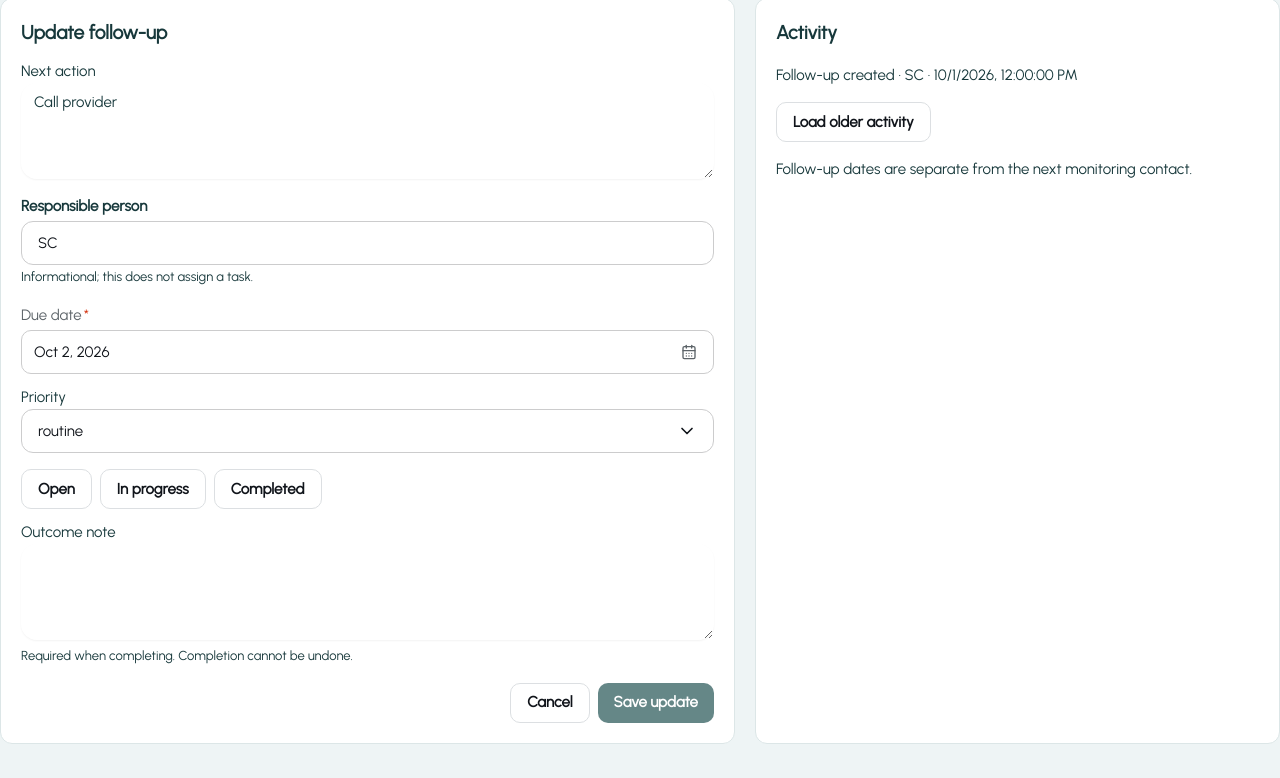
conflicts retain plan drafts, require explicit reapply and save against the latest token
Later steps or results of the test are not shown.
Replace the text in the text box labelled "Next action" with "My action": (368, 130) [21,82,714,178]
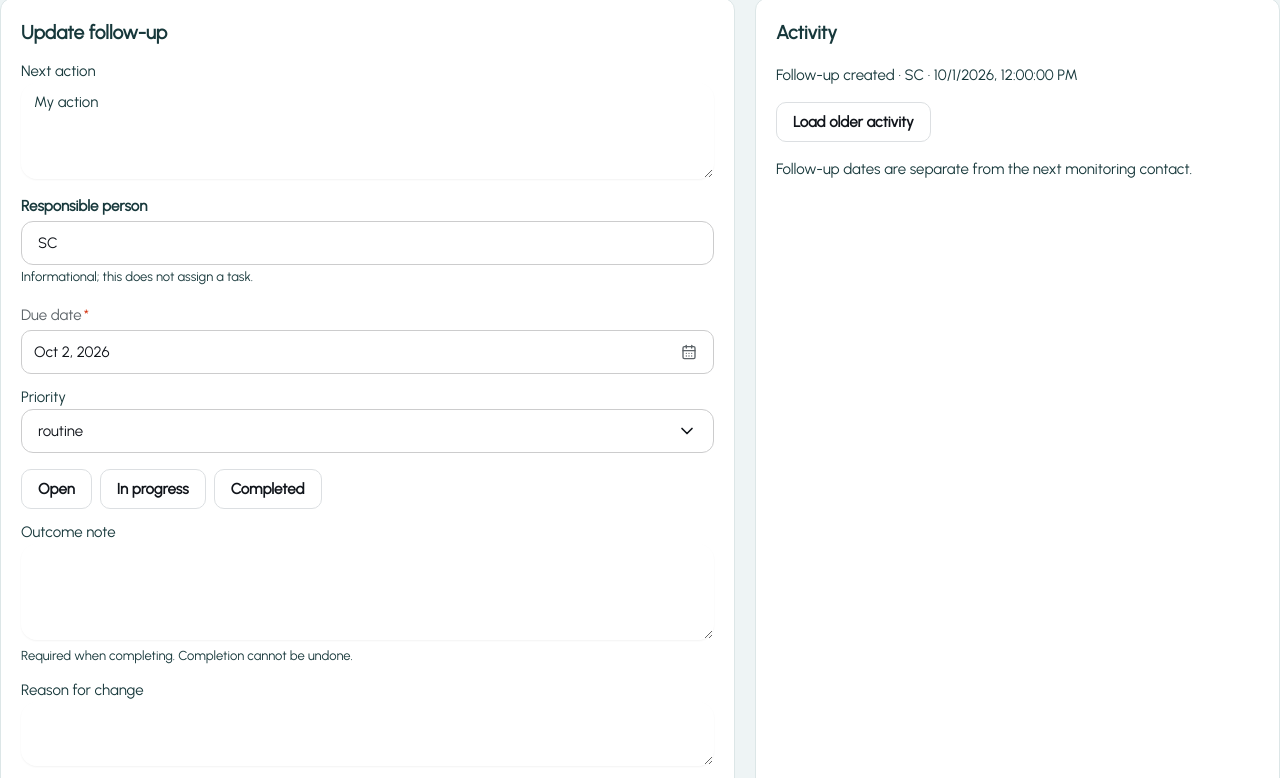
In the text box labelled "Reason for change": (368, 734) [21,702,714,766], type "Provider delay"
(page scrolled)
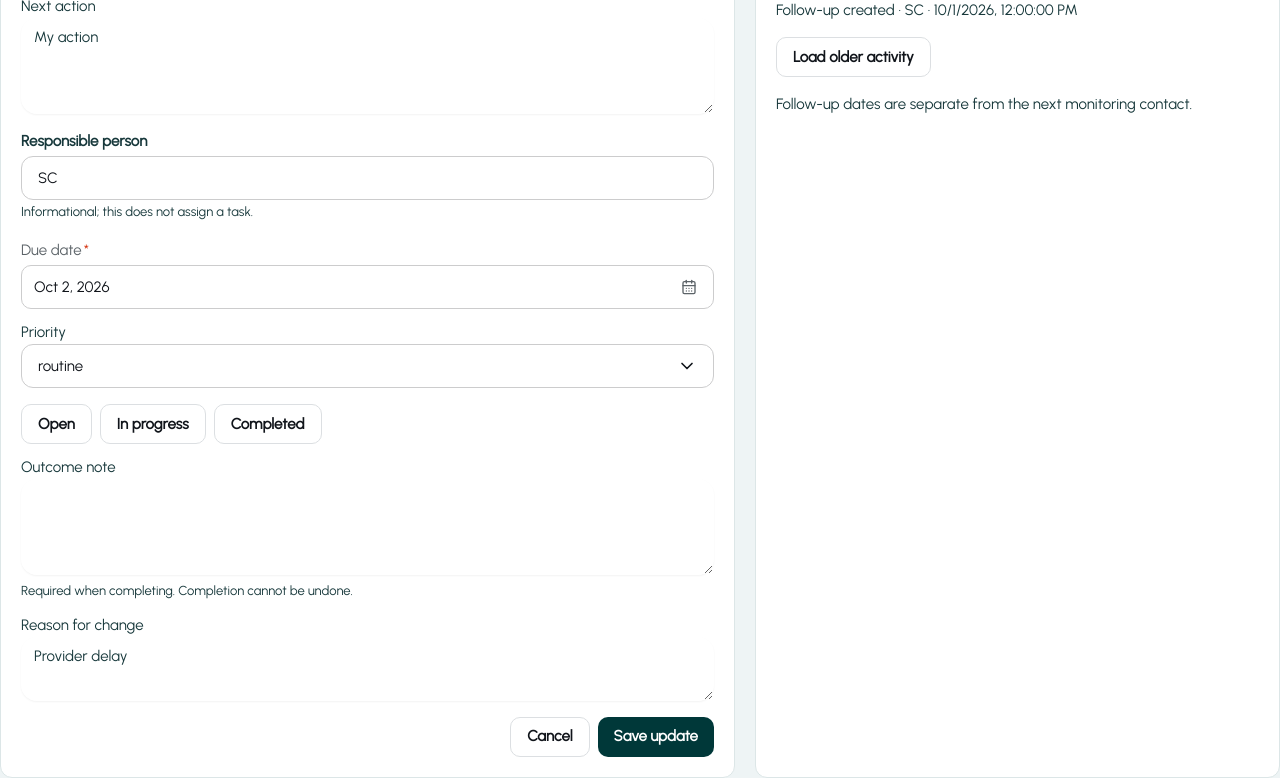
Click the button "Save update": click(656, 736) [598,716,714,756]
(page scrolled)
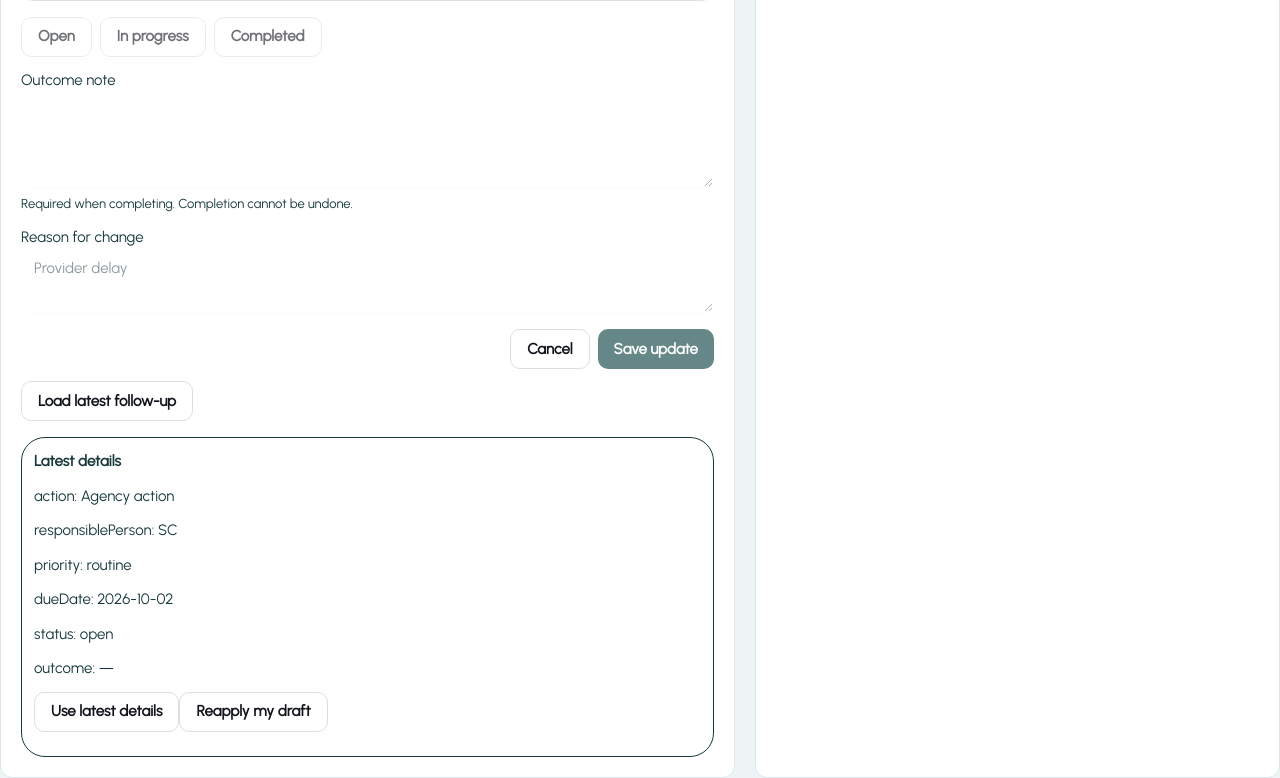
expect the heading "Latest details" is shown: met, box [34,452,121,470]
expect the button "Save update" is disabled: met, box [598,329,714,369]
